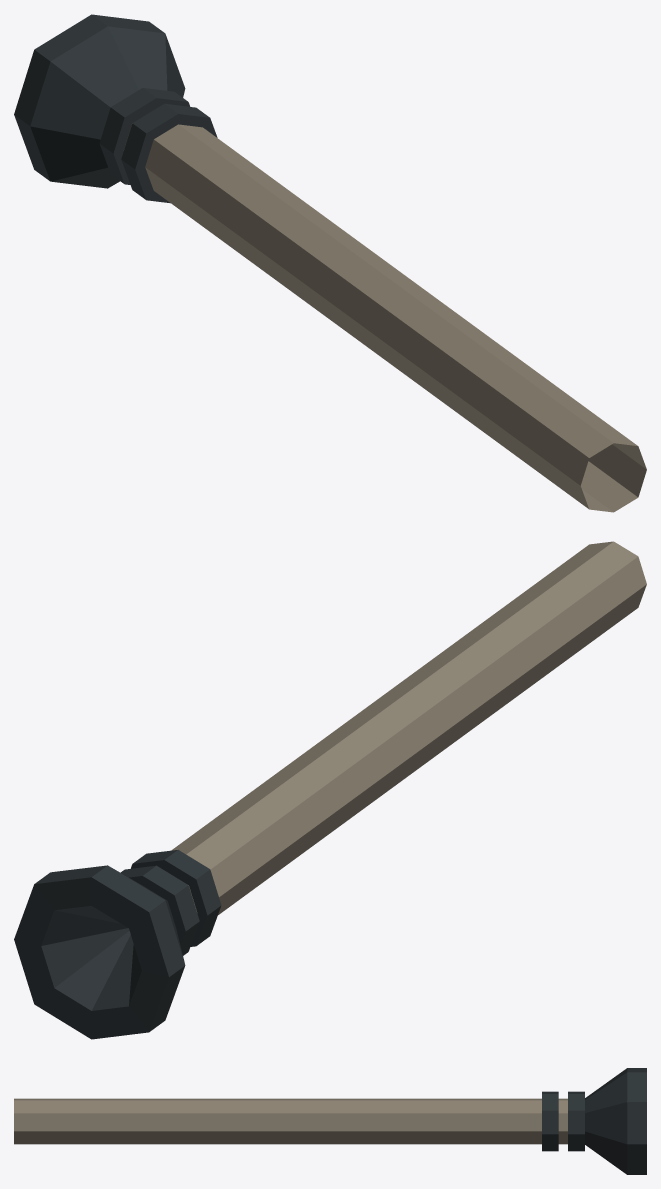
The model's file is Fire Stand 02.FBX.
The picture shows the model from 3 angles, top to bottom: view 1: azimuth 30°, elevation 25°; view 2: azimuth 150°, elevation 25°; view 3: azimuth 270°, elevation 25°; orthographic projection. The views are drawn at different scales.
Parts seen in each view (by area): view 1: Fire Stand 02; view 2: Fire Stand 02; view 3: Fire Stand 02.
Part boxes in pixels (<box>): Fire Stand 02: <box>14,14,646,512</box>; Fire Stand 02: <box>14,541,646,1039</box>; Fire Stand 02: <box>14,1068,646,1174</box>.
Size of the model in its own units: 25.67 by 150 by 25.65.
